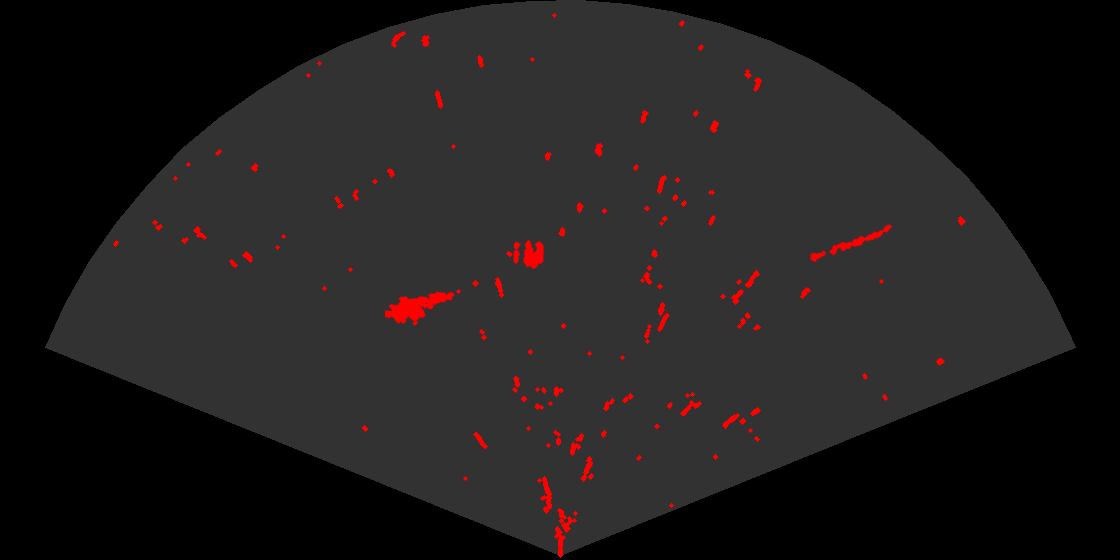ball: (512, 238, 545, 270)
chain: (808, 223, 894, 264)
frogman: (385, 290, 456, 327)
